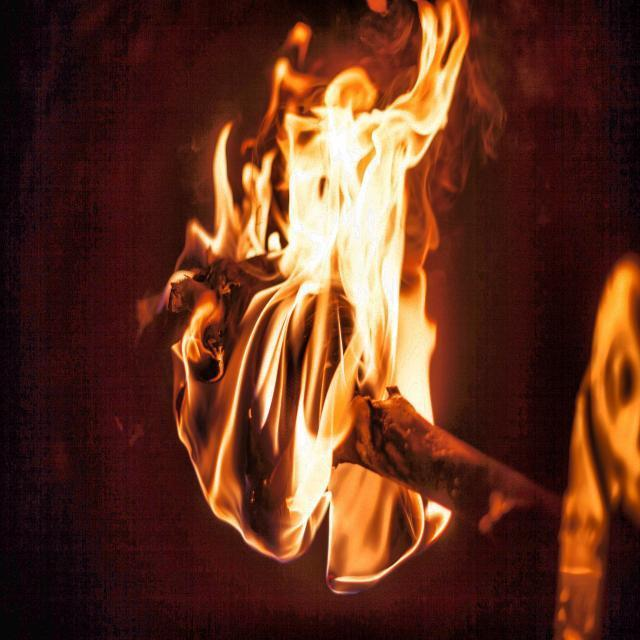Fire: (163, 2, 470, 596)
